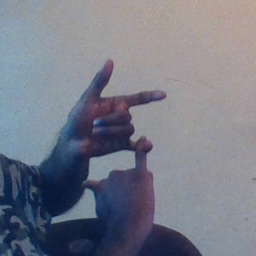S: (68, 57, 178, 199)
